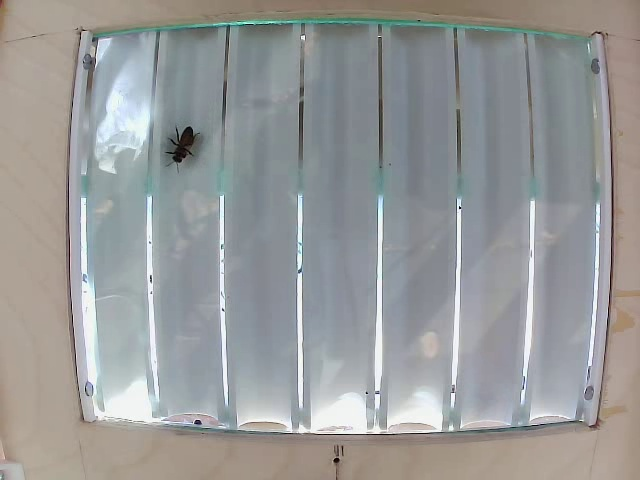bee: (165, 125, 203, 174)
